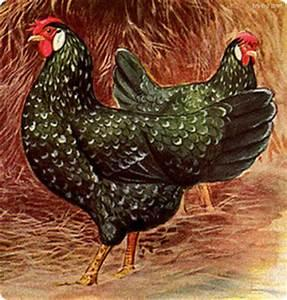hen: (18, 14, 278, 286)
